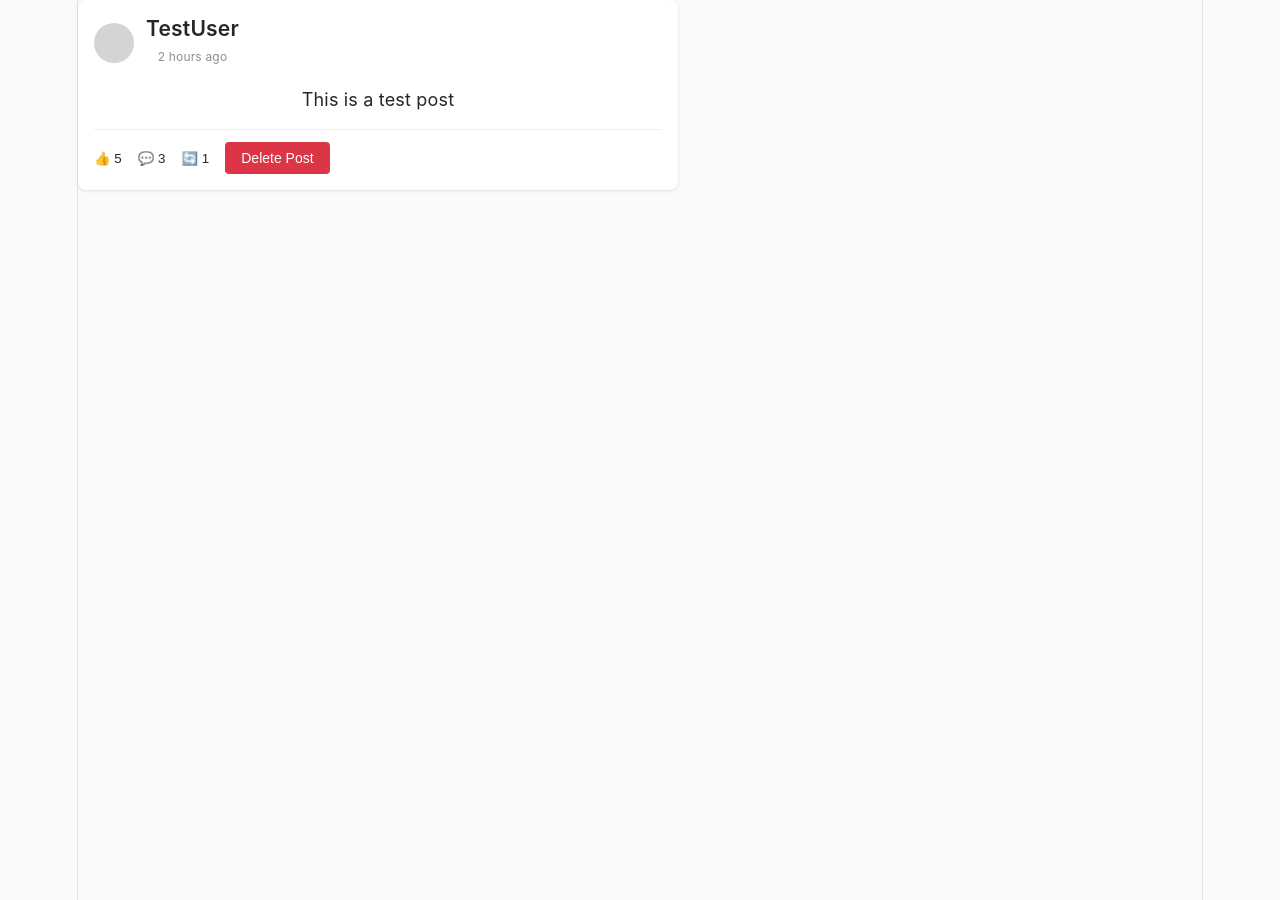
Test: PostCard State Management › like and share counts update independently
The width and height of the screenshot is (1280, 900).
Click like button
Step 1. Click the button "👍 5" → (108, 158), box [94, 142, 122, 174]
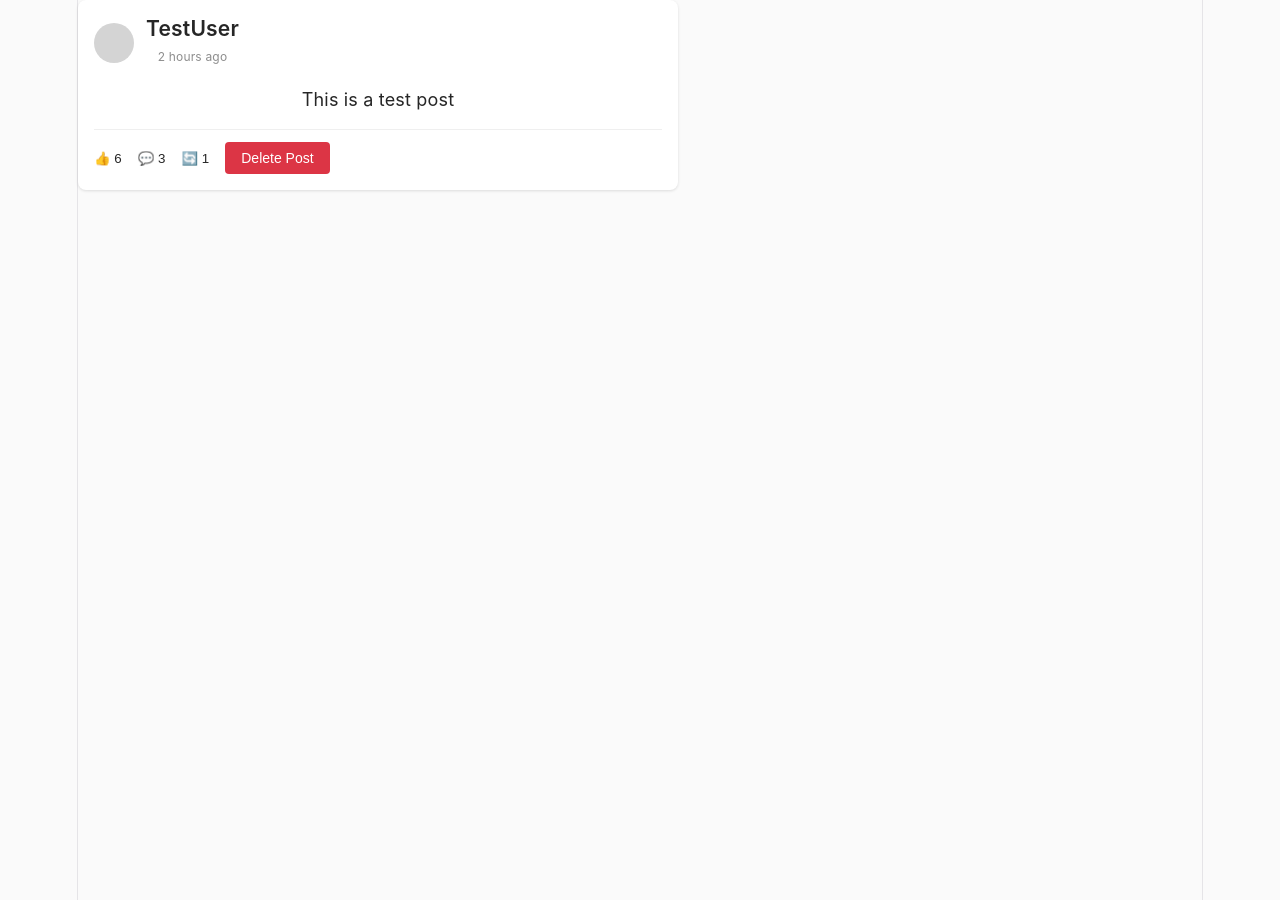
Click share button
Step 2. Click the button "🔄 1" → (195, 158), box [182, 142, 209, 174]
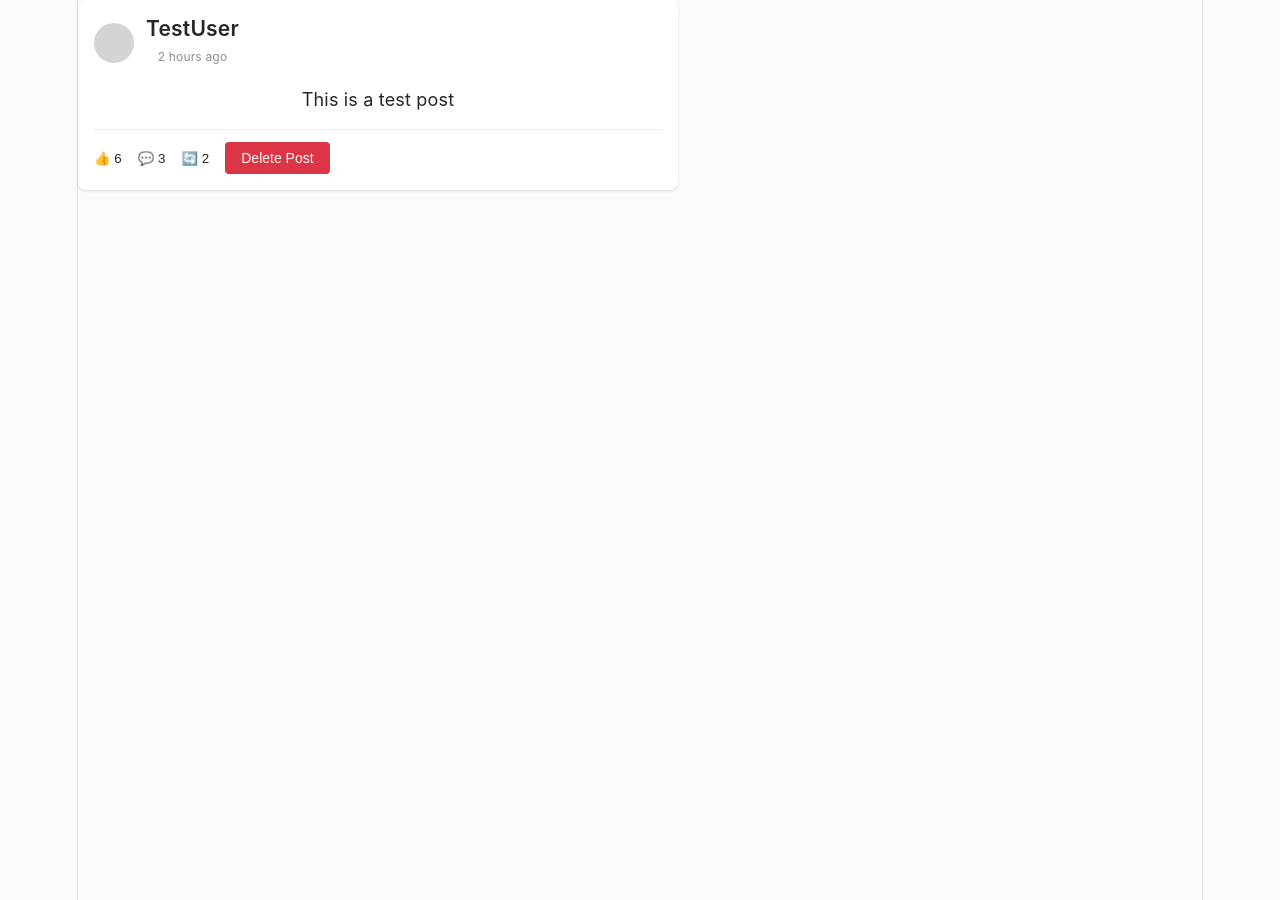
expect the button "👍 6" is shown: met, box [94, 142, 122, 174]
expect the button "🔄 2" is shown: met, box [182, 142, 209, 174]
